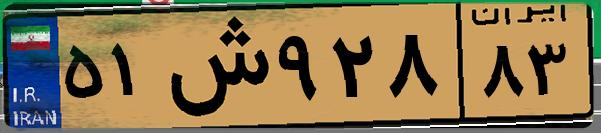1: (110, 28, 158, 98)
2: (330, 28, 385, 110)
3: (525, 38, 570, 115)
5: (57, 26, 110, 100)
8: (385, 28, 445, 110), (475, 38, 525, 113)
9: (270, 28, 330, 110)
ش: (158, 12, 270, 120)
